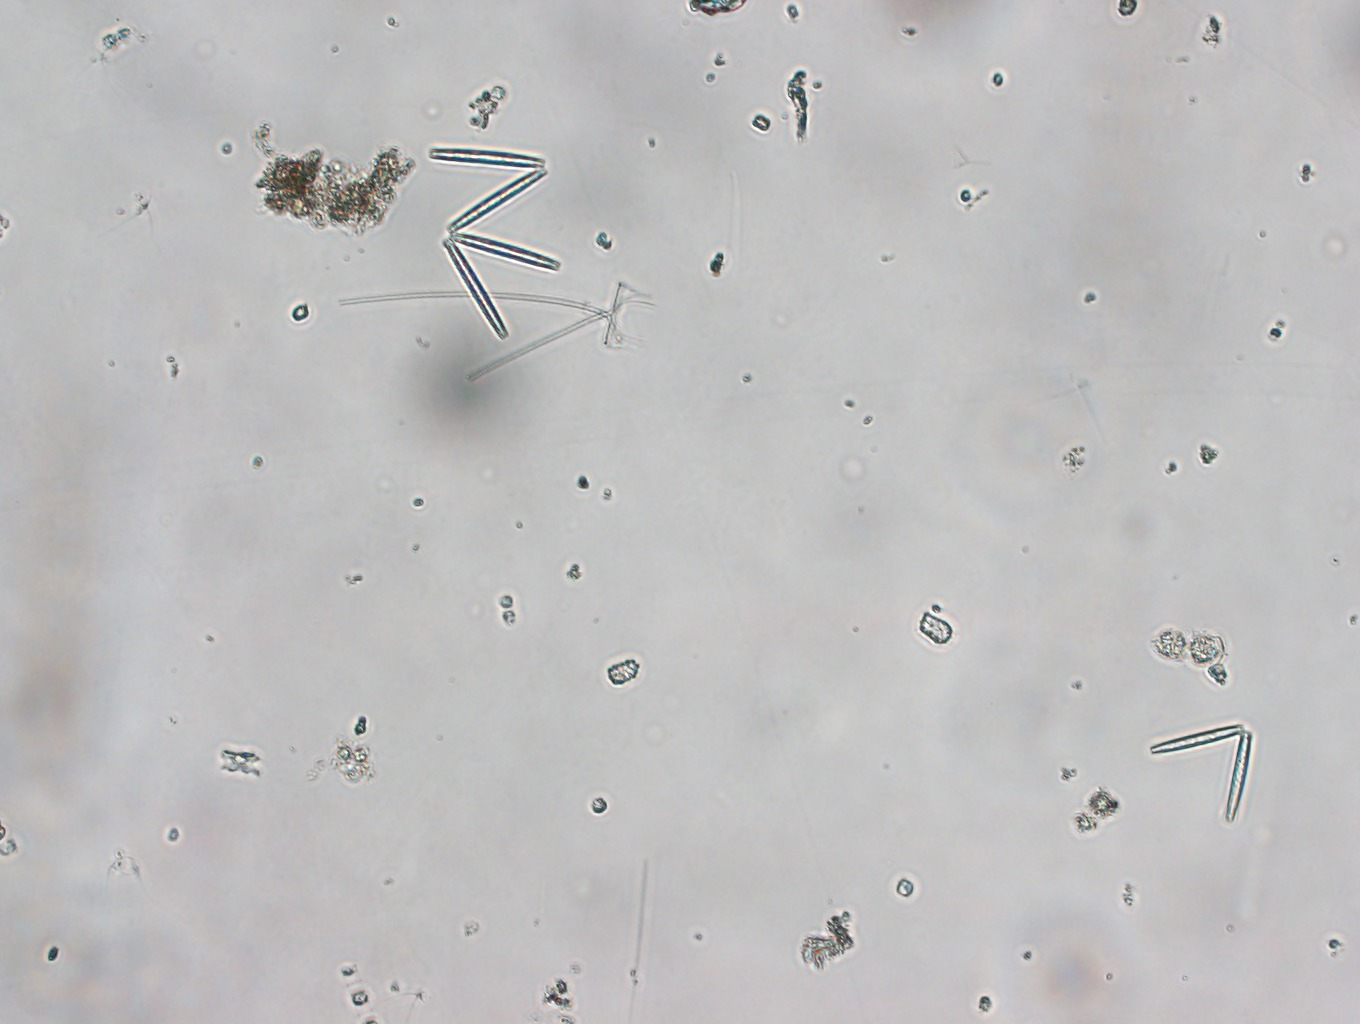thalassionema nitzschioides: (423, 141, 563, 342), (1142, 720, 1255, 823)
